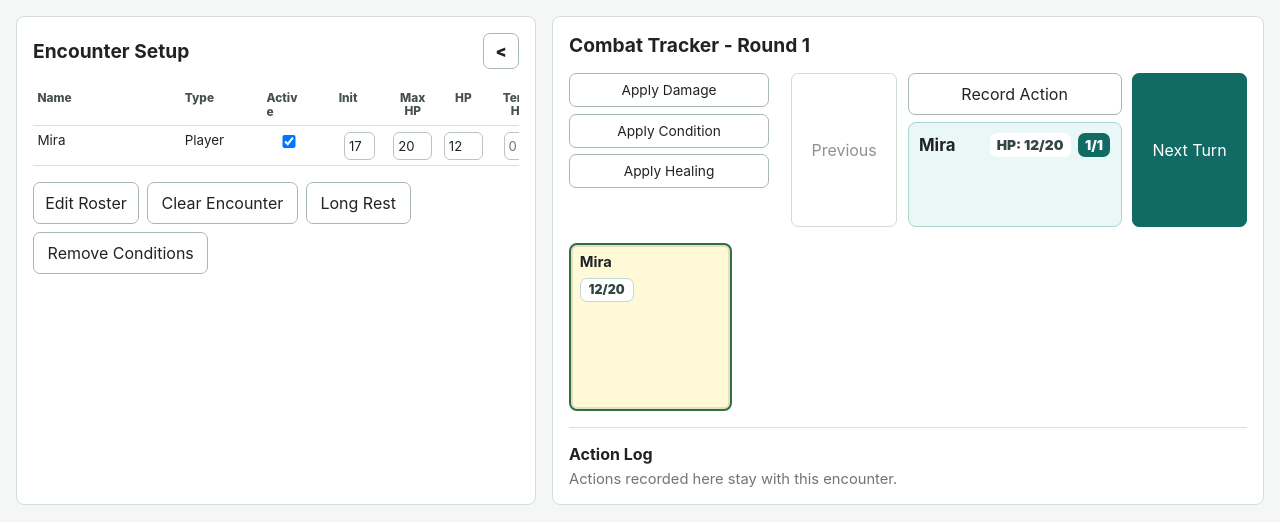
Test: App workflow › clamps HP so it cannot exceed Max HP
The width and height of the screenshot is (1280, 522).
Step 1. Replace the text in the number field named "HP for Mira" with "25" → (463, 146), box [444,132,483,160]
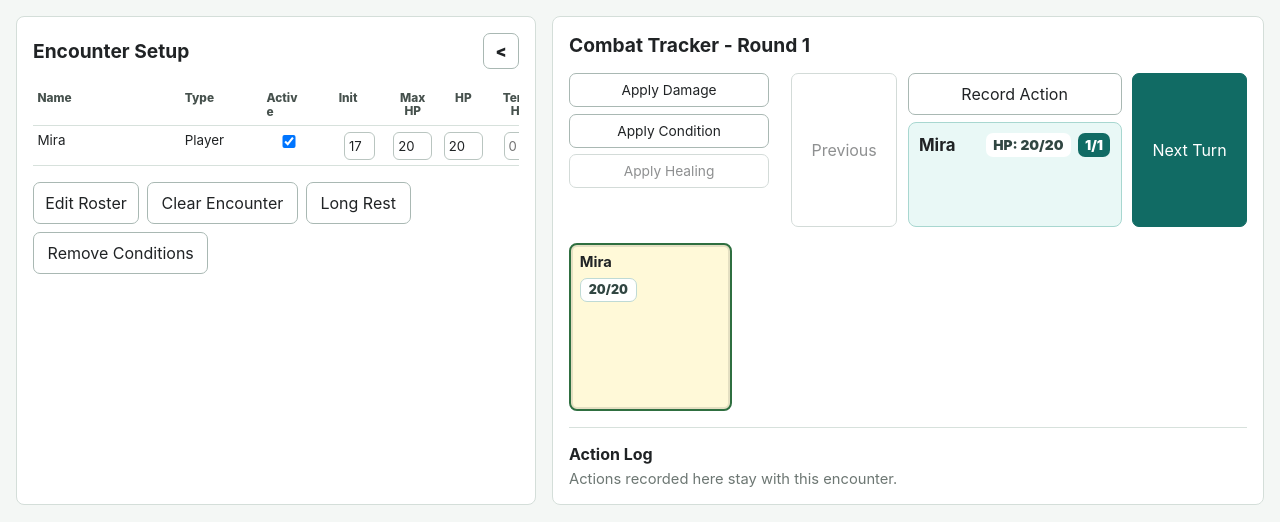
Check: the text "HP: 20/20" is shown, box [986,133,1071,157]
Check: the text "20/20" is shown, box [580,278,637,302]
Step 2. Replace the text in the number field named "Max HP for Mira" with "15" → (413, 146), box [393,132,432,160]
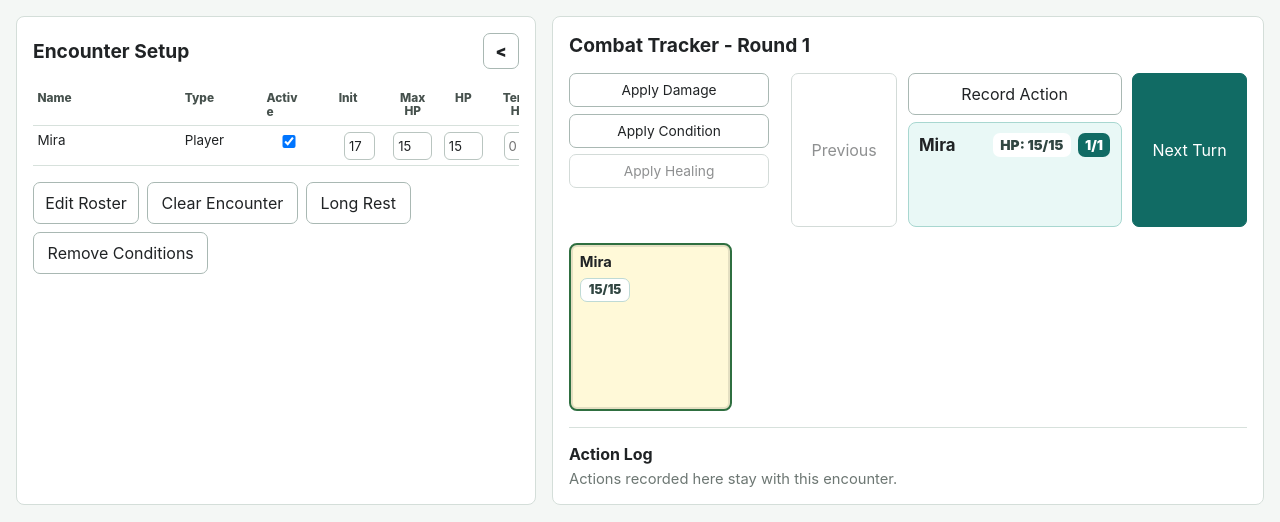
Check: the text "HP: 15/15" is shown, box [993,133,1071,157]
Check: the text "15/15" is shown, box [580,278,630,302]
